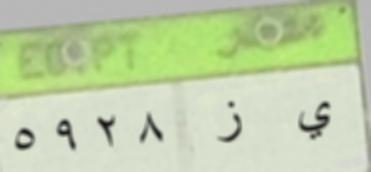2: (92, 110, 123, 155)
5: (10, 126, 41, 152)
8: (136, 111, 167, 151)
9: (50, 112, 80, 159)
yaa: (290, 95, 334, 146)
zay: (214, 100, 246, 148)
